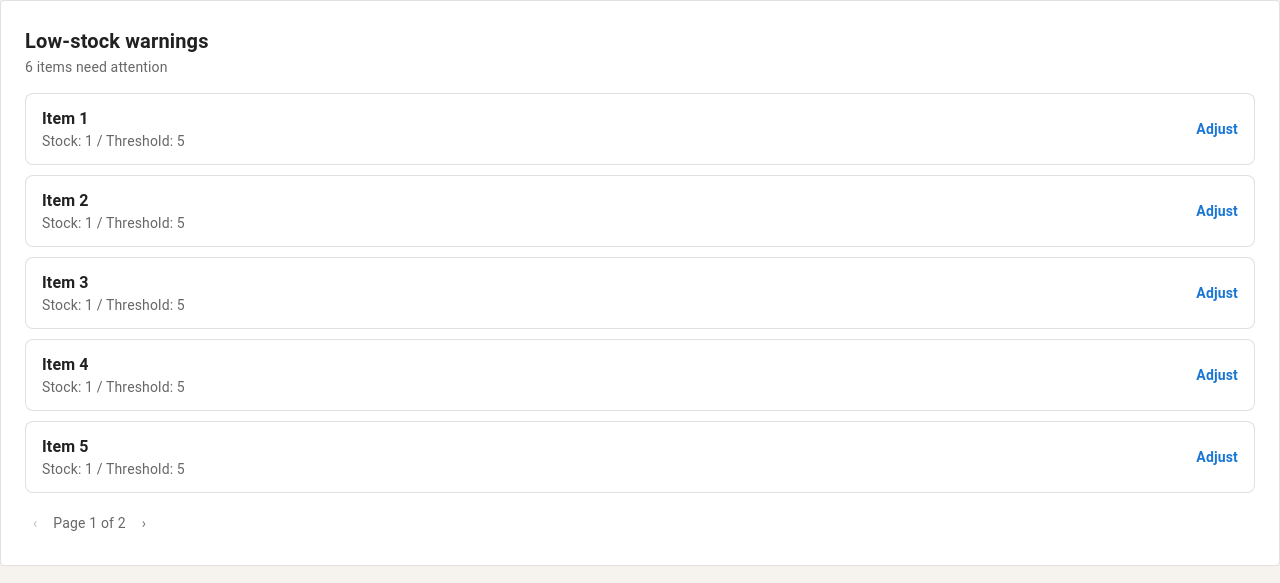
Test: LowStockWarningsCard › paginates low-stock warnings after 5 items instead of using a scroll list
This screenshot has width=1280, height=583.
Expected: the text "Item 1" is shown, [42,109,89,128]
Expected: the text "Item 5" is shown, [42,437,89,456]
What coordinates should you click on to do the following:
click the button named "next page"
I would click on:
 (144, 523)
Its box is [134,505,154,541].
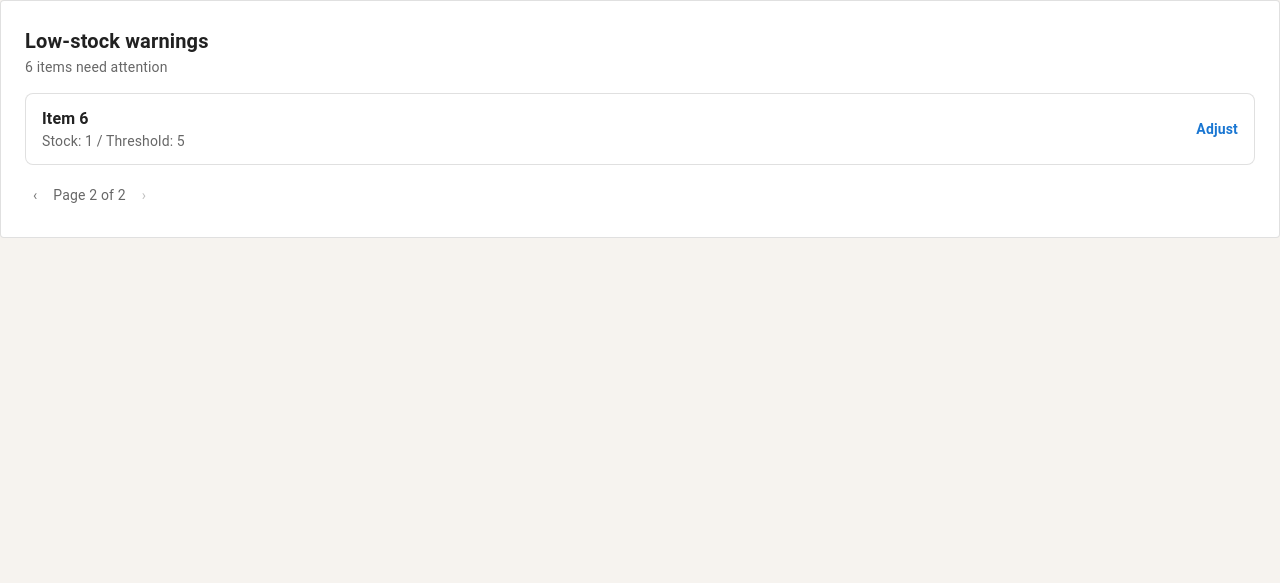
Expected: the text "Item 6" is shown, [42,109,89,128]
Expected: the button "Item 1" is gone
